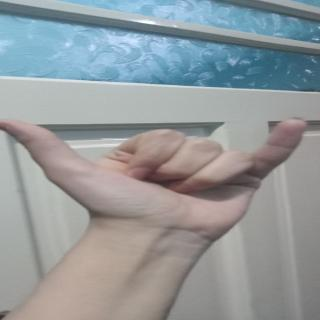YA: (0, 118, 320, 232)
